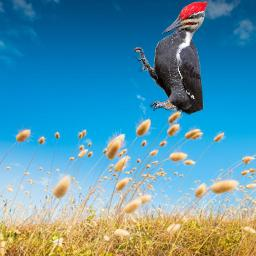Woodpecker: (133, 1, 207, 115)
